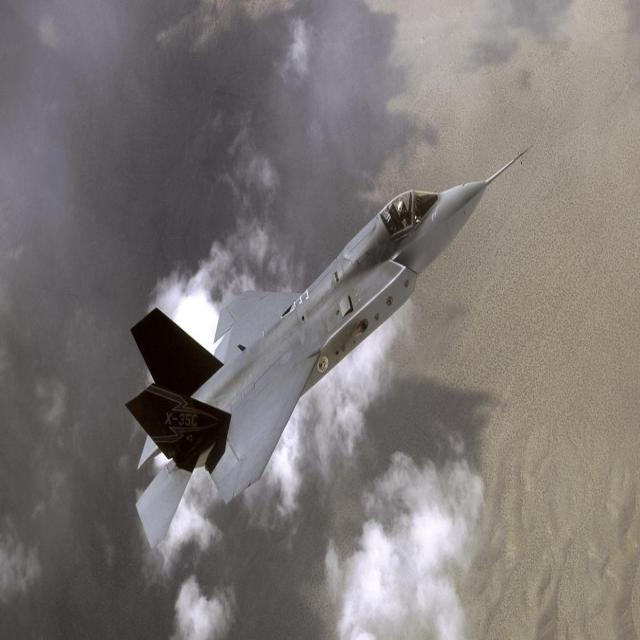MIL_Plane: (124, 144, 533, 550)
